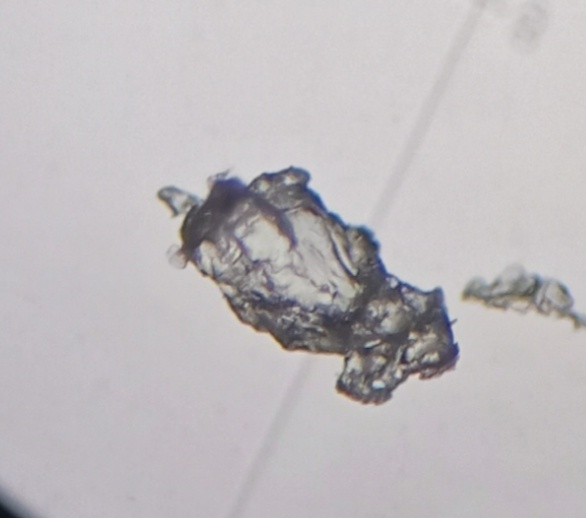microplastic: (157, 172, 464, 407), (455, 261, 586, 332)
